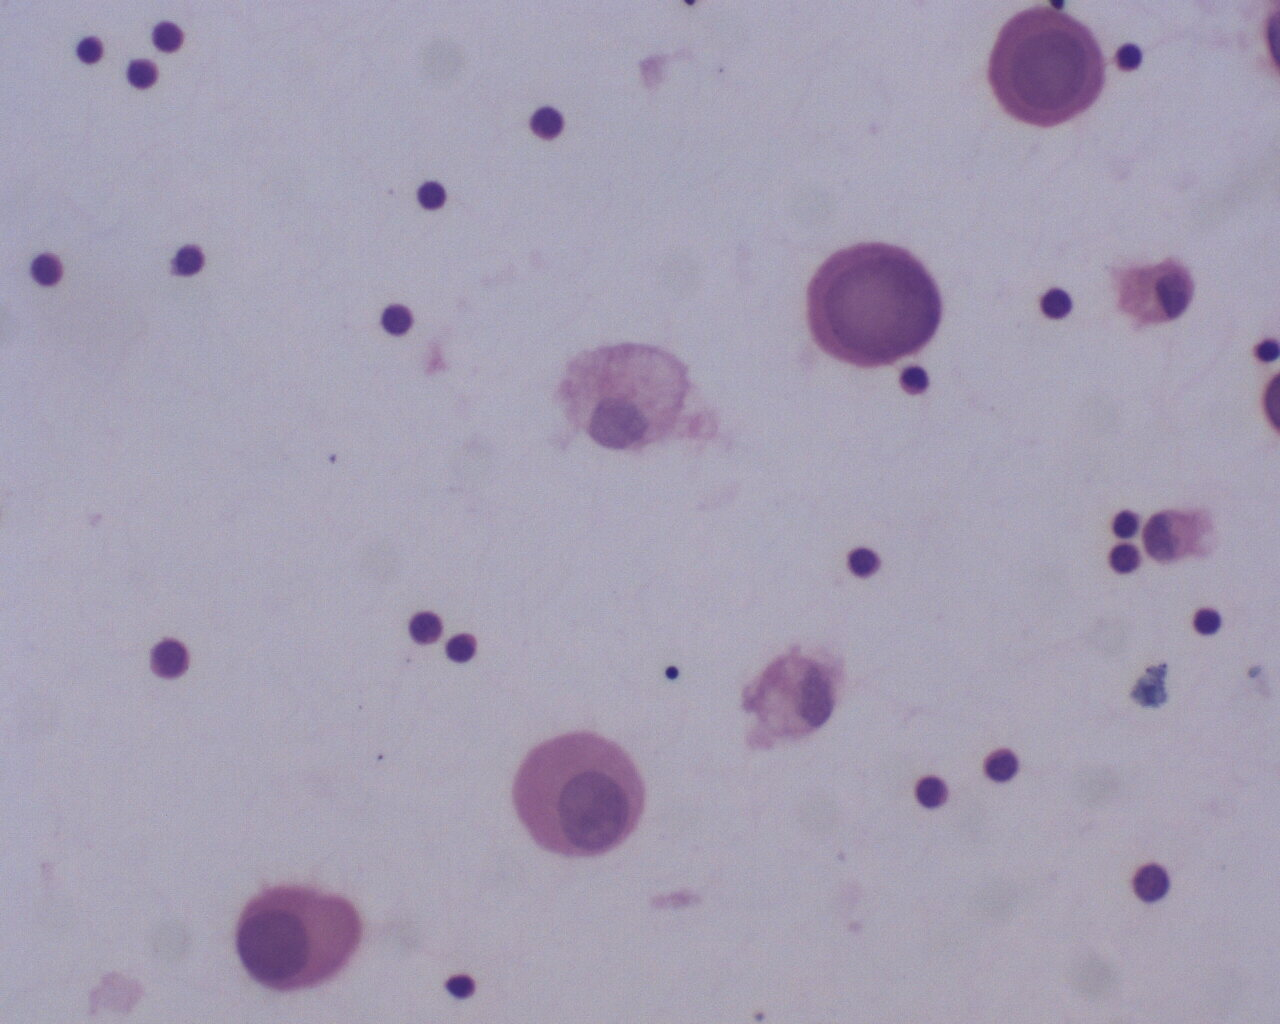ab: (801, 239, 944, 376), (510, 723, 649, 862), (230, 886, 373, 999), (988, 8, 1106, 132)
lymph: (1032, 282, 1084, 329), (26, 245, 72, 296), (911, 767, 954, 815), (411, 177, 457, 220), (120, 52, 165, 94), (375, 303, 420, 343), (840, 542, 887, 580), (438, 626, 484, 664), (982, 740, 1021, 784), (1190, 600, 1224, 643)
